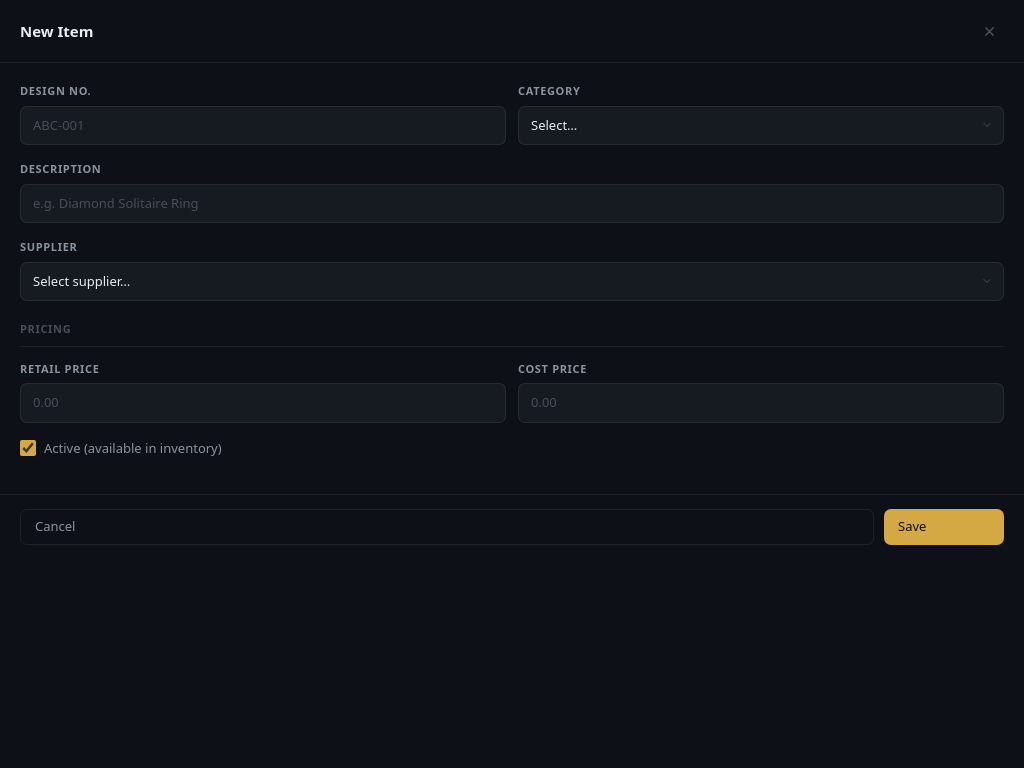
Scenario: ItemDetail › shows a validation message for the missing required field
What coordinates should you click on to do the following:
click the button "Save"
I would click on:
 (944, 527)
Its box is [884,509,1004,544].
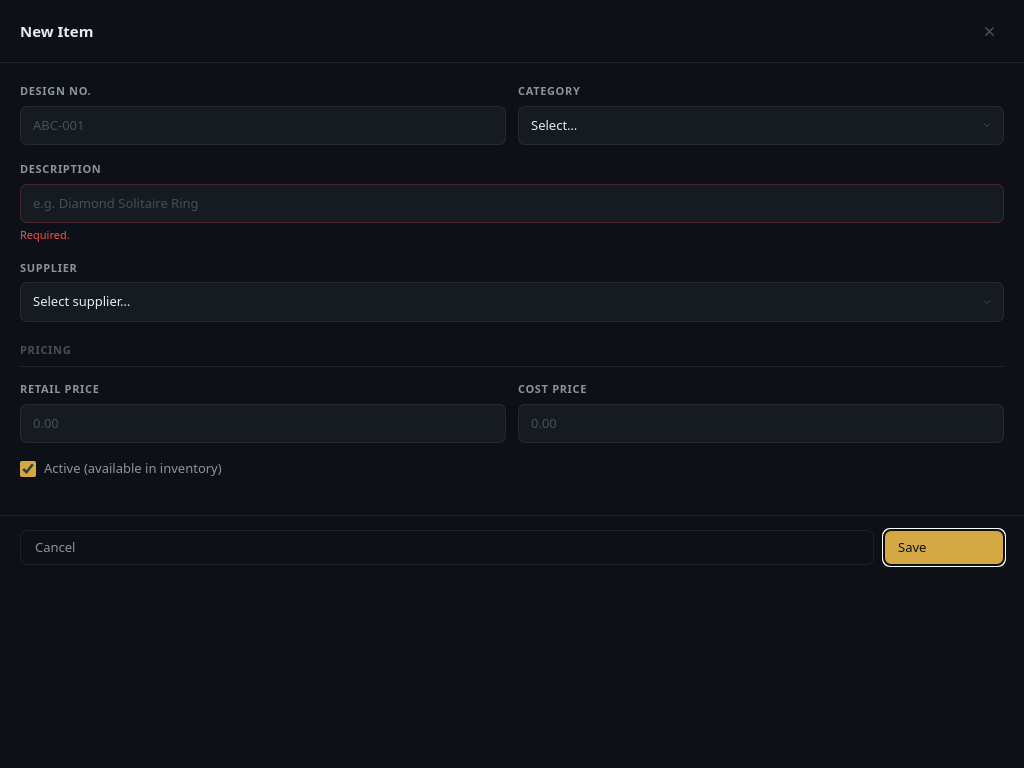
Result: the text "Required." is shown at [20,227,70,242]
